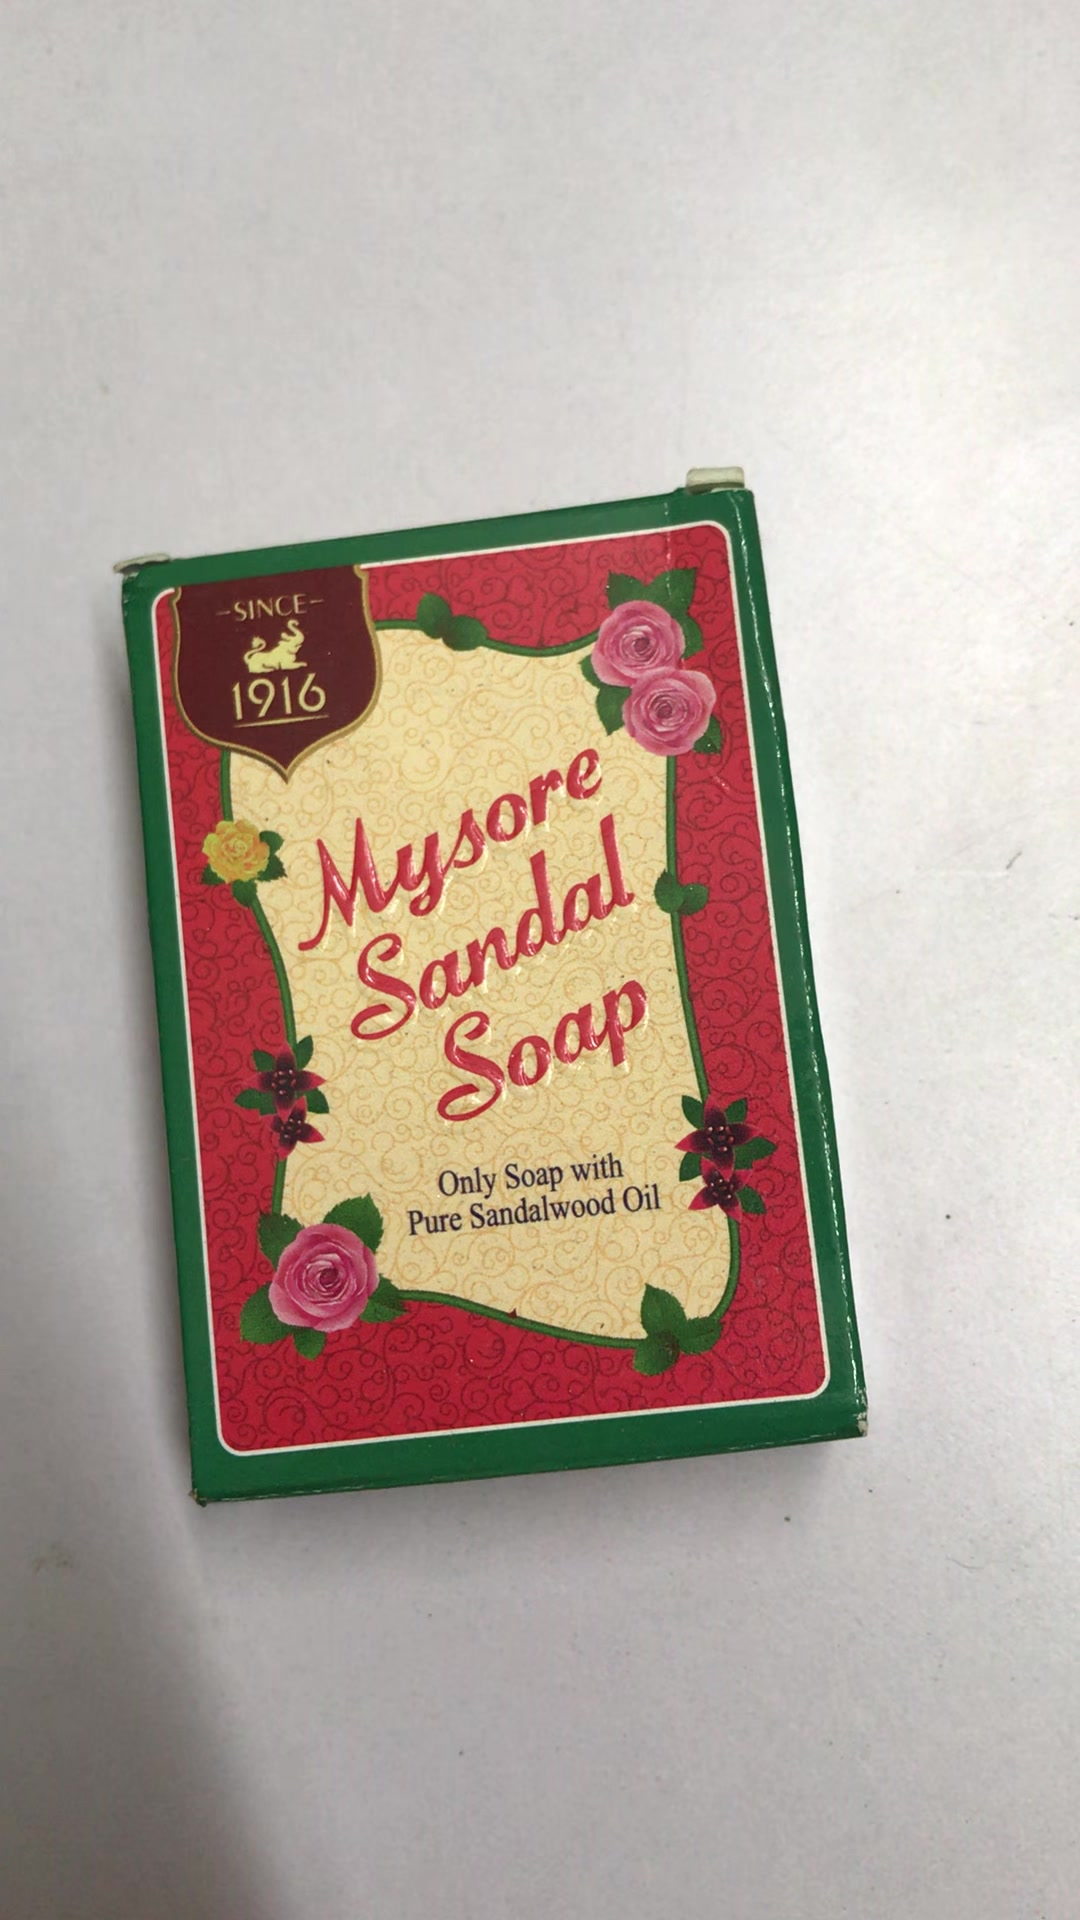mysore sandal soap: (120, 491, 872, 1511)
